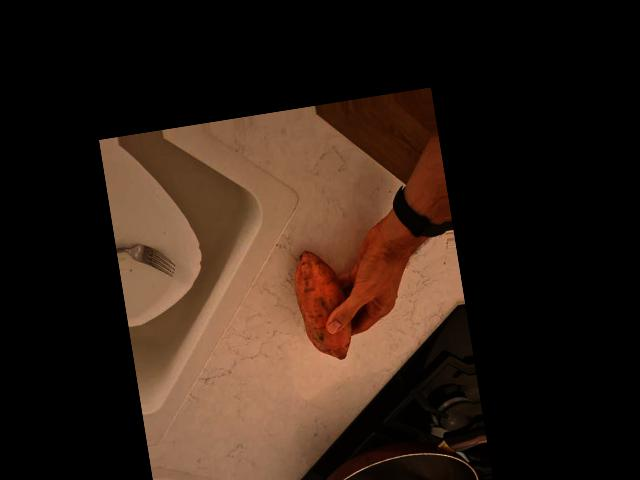sweet_potato: (294, 244, 357, 360)
